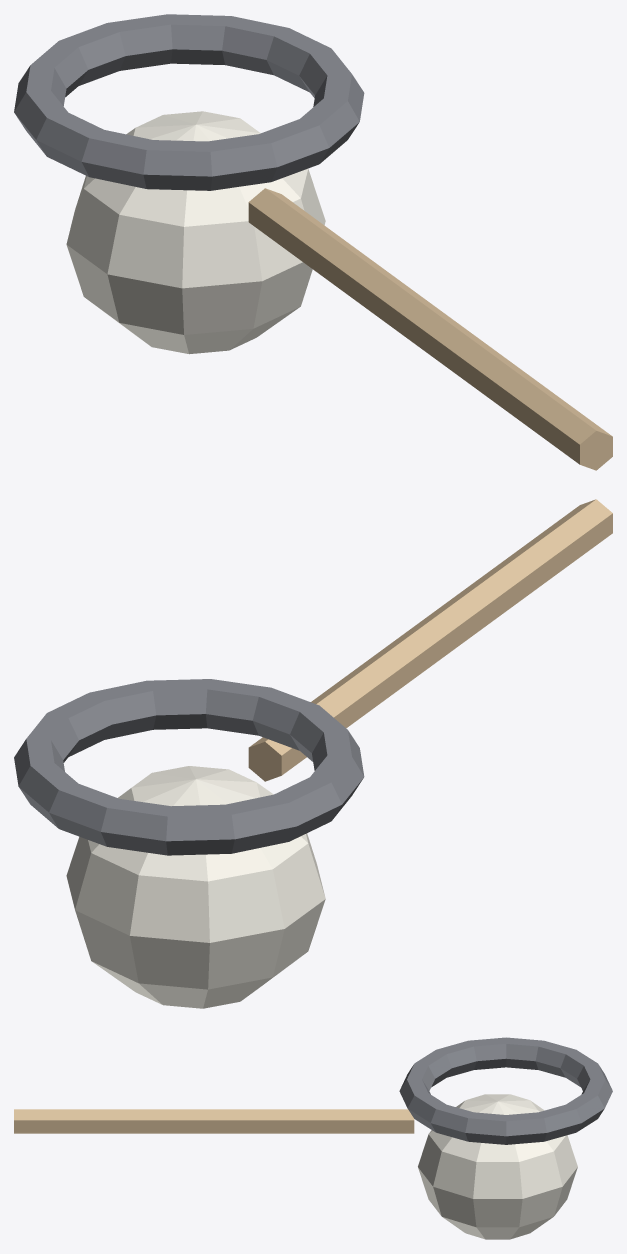
The model's file is net_held.gltf.
The picture shows the model from 3 angles, top to bottom: view 1: azimuth 30°, elevation 25°; view 2: azimuth 150°, elevation 25°; view 3: azimuth 270°, elevation 25°; orthographic projection. The views are drawn at different scales.
Visible parts, largest first — view 1: bees_net_held; view 2: bees_net_held; view 3: bees_net_held.
Part boxes in pixels (x1,y1,x2,y2): bees_net_held: (14, 14, 612, 470); bees_net_held: (14, 499, 612, 1008); bees_net_held: (14, 1037, 612, 1239).
Bounding box in the file's own units: 0.128 × 0.101 × 0.359.
